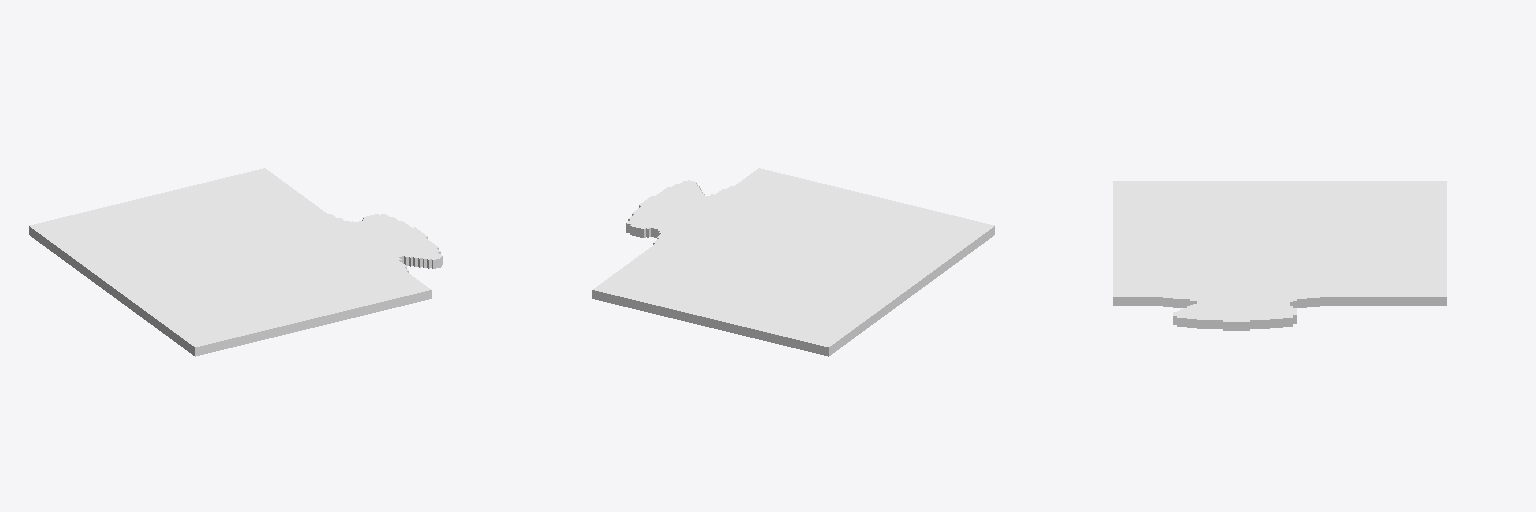
File: puzzle_4.obj
The picture shows the model from 3 angles: view 1: azimuth 30°, elevation 25°; view 2: azimuth 150°, elevation 25°; view 3: azimuth 270°, elevation 25°; orthographic projection.
Bounding box in the file's own units: 100 × 3 × 100.